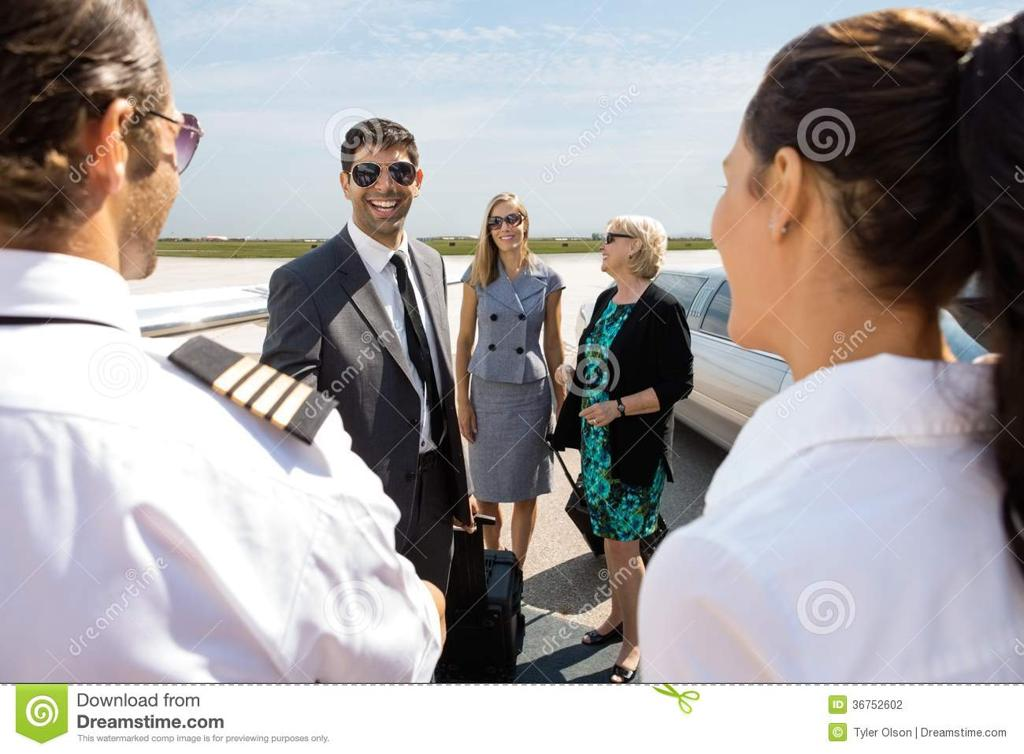face: (65, 60, 183, 281), (711, 146, 812, 343), (348, 150, 416, 233), (600, 227, 635, 270), (490, 208, 523, 250)
